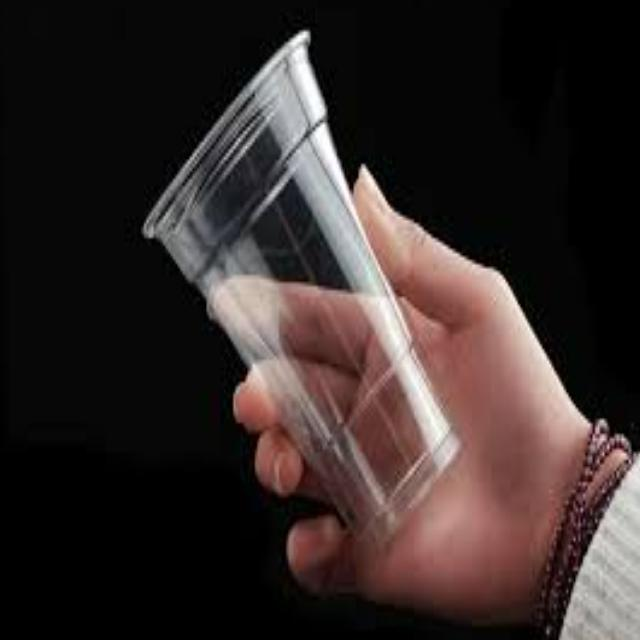GelasPlastik: (141, 27, 463, 550)
